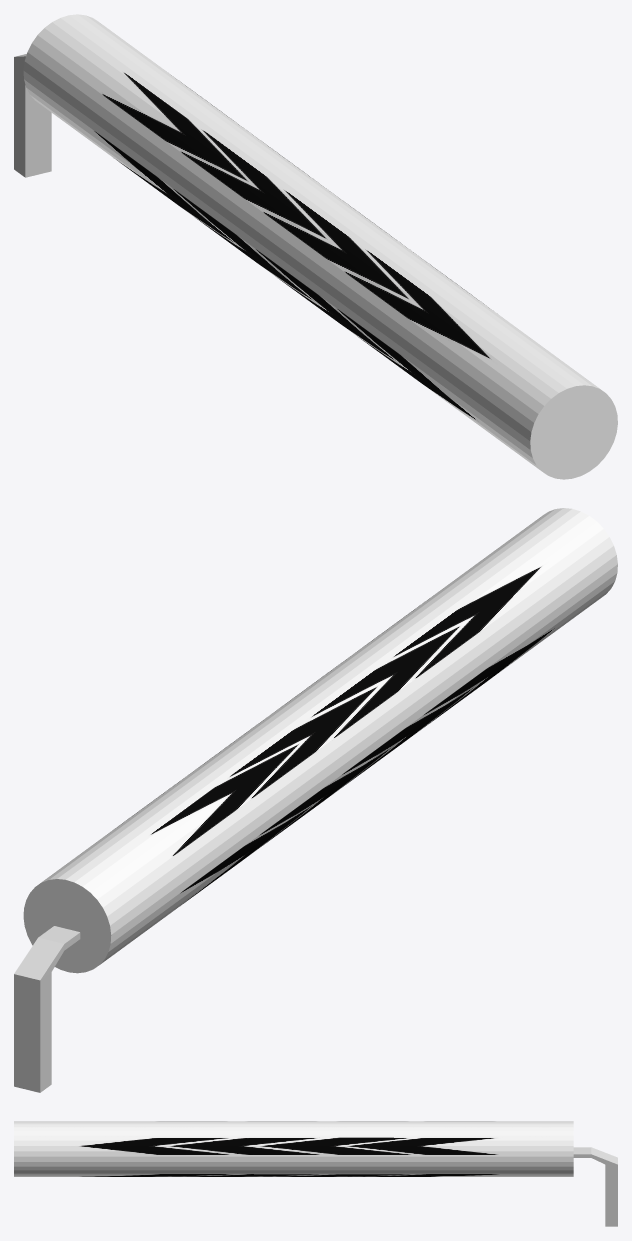
The model's file is Cable3.fbx.
3 views of the same model, one above another, from view 1: azimuth 30°, elevation 25°; view 2: azimuth 150°, elevation 25°; view 3: azimuth 270°, elevation 25° (orthographic). The views are drawn at different scales.
Parts seen in each view (by area): view 1: Cylinder.001; view 2: Cylinder.001; view 3: Cylinder.001.
Boxes of the visible parts, x1,y1,x2,y2 form: Cylinder.001: (14,14,617,479); Cylinder.001: (14,508,617,1092); Cylinder.001: (14,1121,617,1226).
Bounding box in the file's own units: 49.96 × 98.03 × 540.
